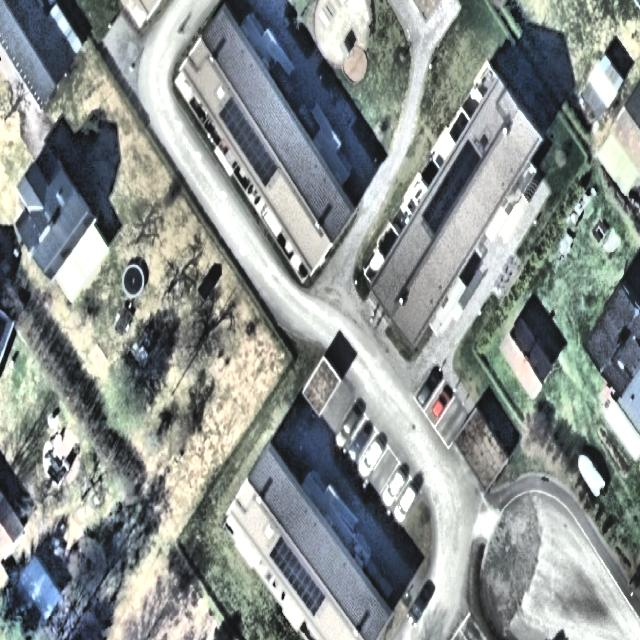roof_pv: (266, 529, 300, 606), (449, 139, 483, 209), (247, 116, 280, 188), (418, 168, 448, 242), (218, 90, 246, 166), (300, 554, 326, 622)
